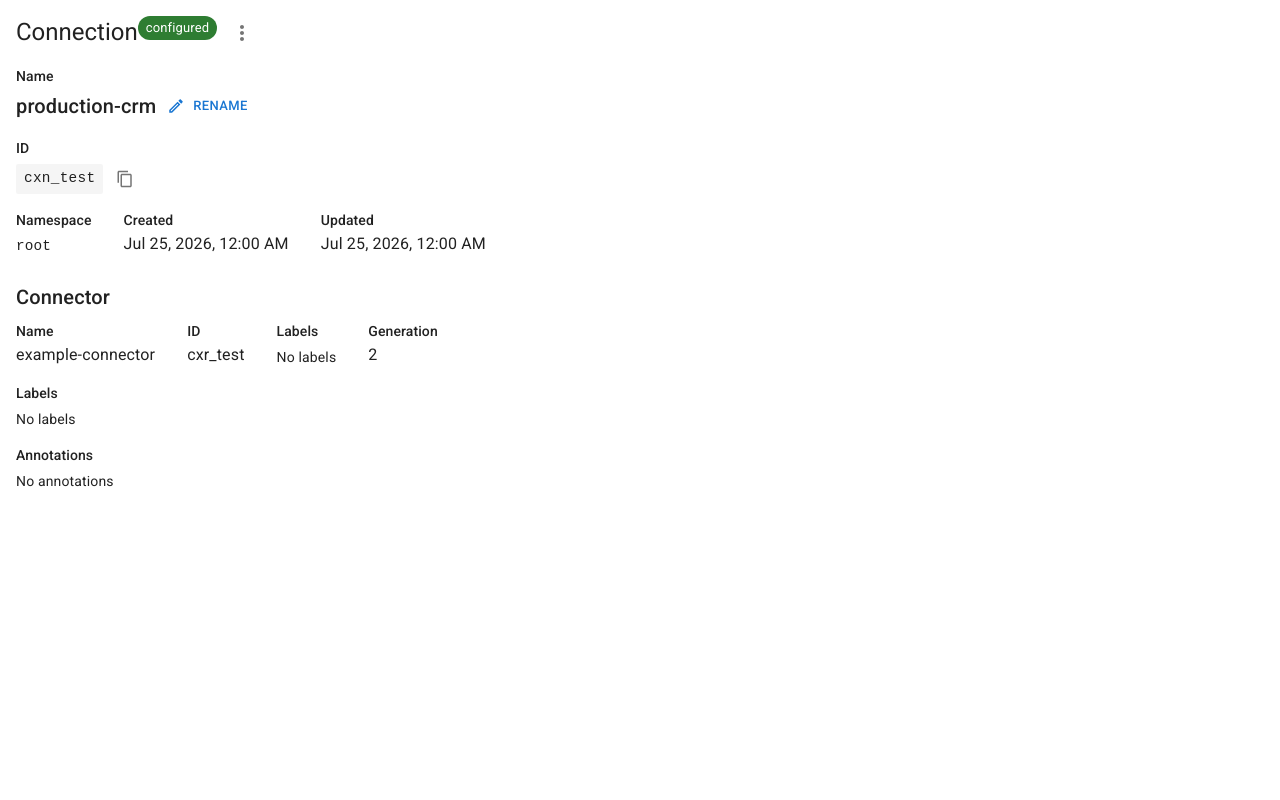
ConnectionDetail › uses the same flow to roll back to an earlier active generation
This screenshot has width=1280, height=800.
Expected: the heading "Connection" is shown, [16,16,138,50]
Click the button named "actions".
click(242, 33)  # box [225,16,259,50]
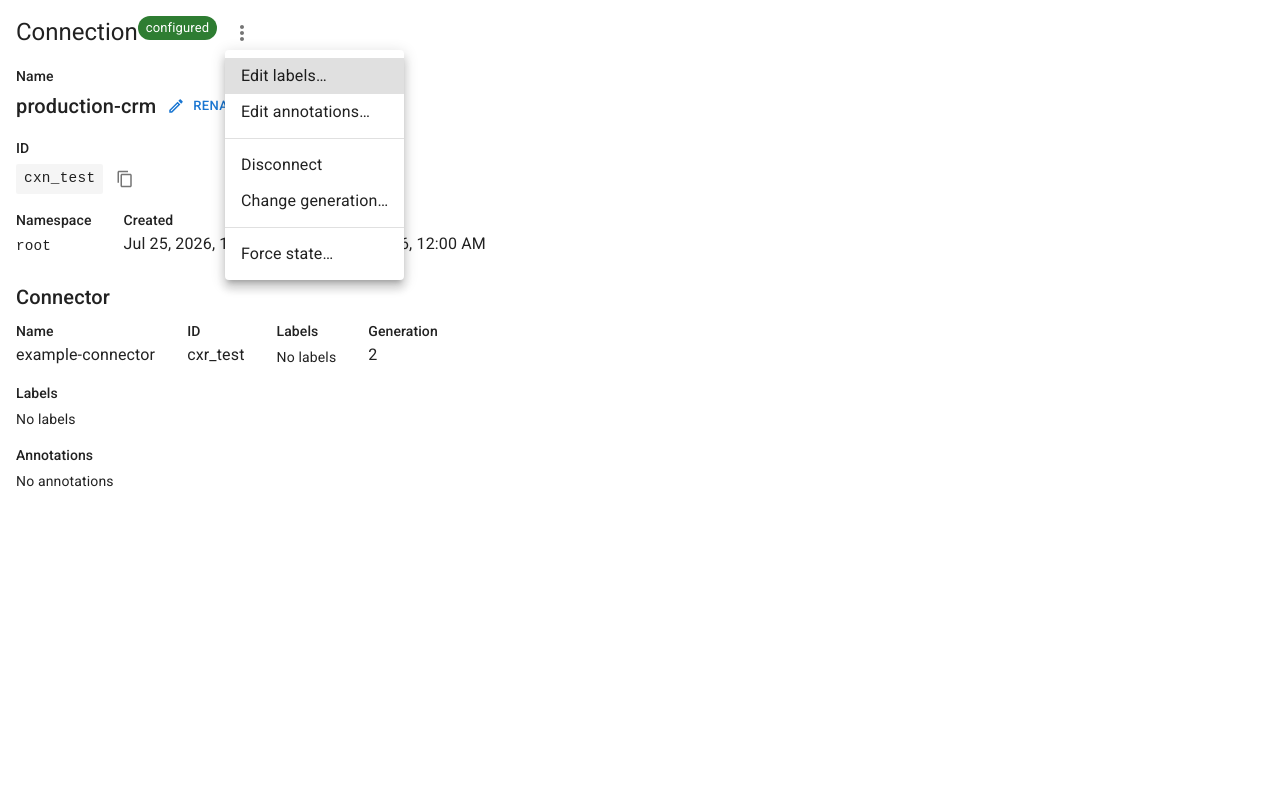
Click the menu item "Change generation…".
click(315, 200)  # box [241,191,388,210]
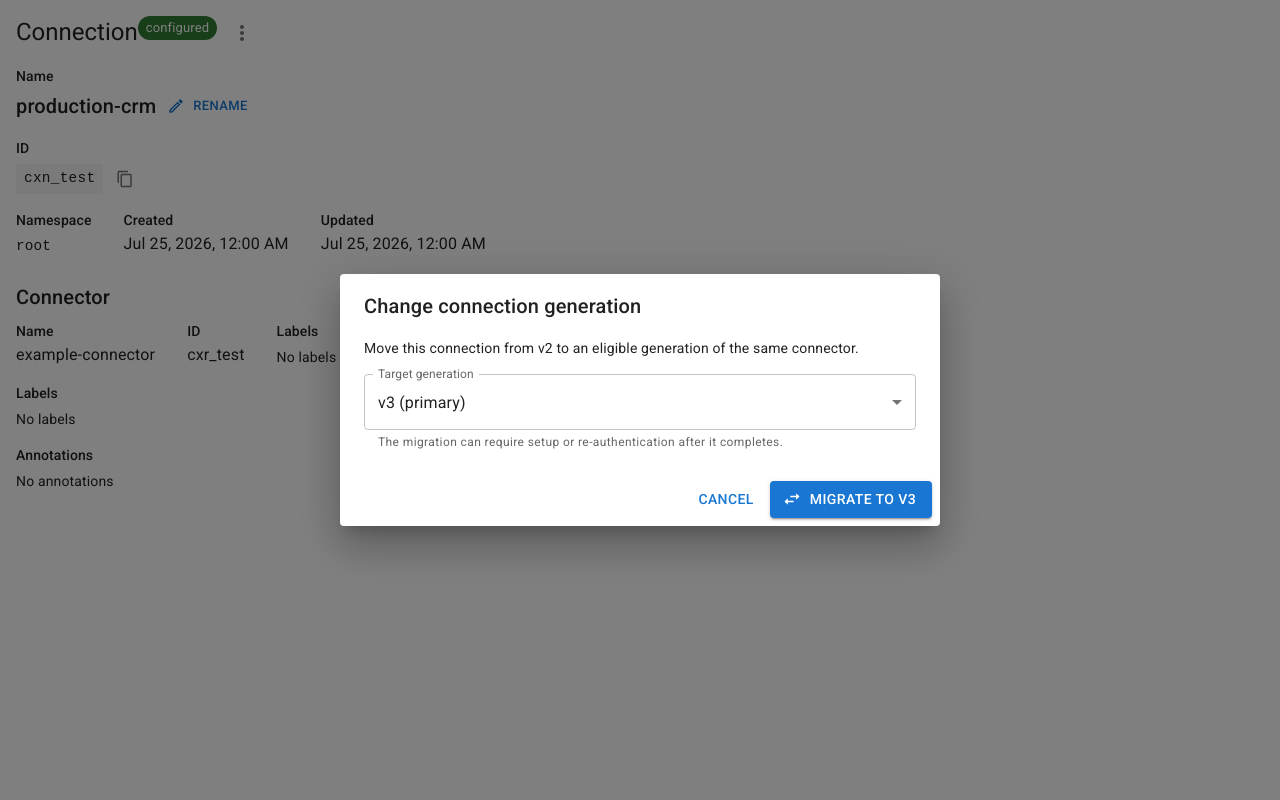
Select "v1 (active)" in the dropdown labelled "Target generation" at [640, 402], box [364,374,916,430]
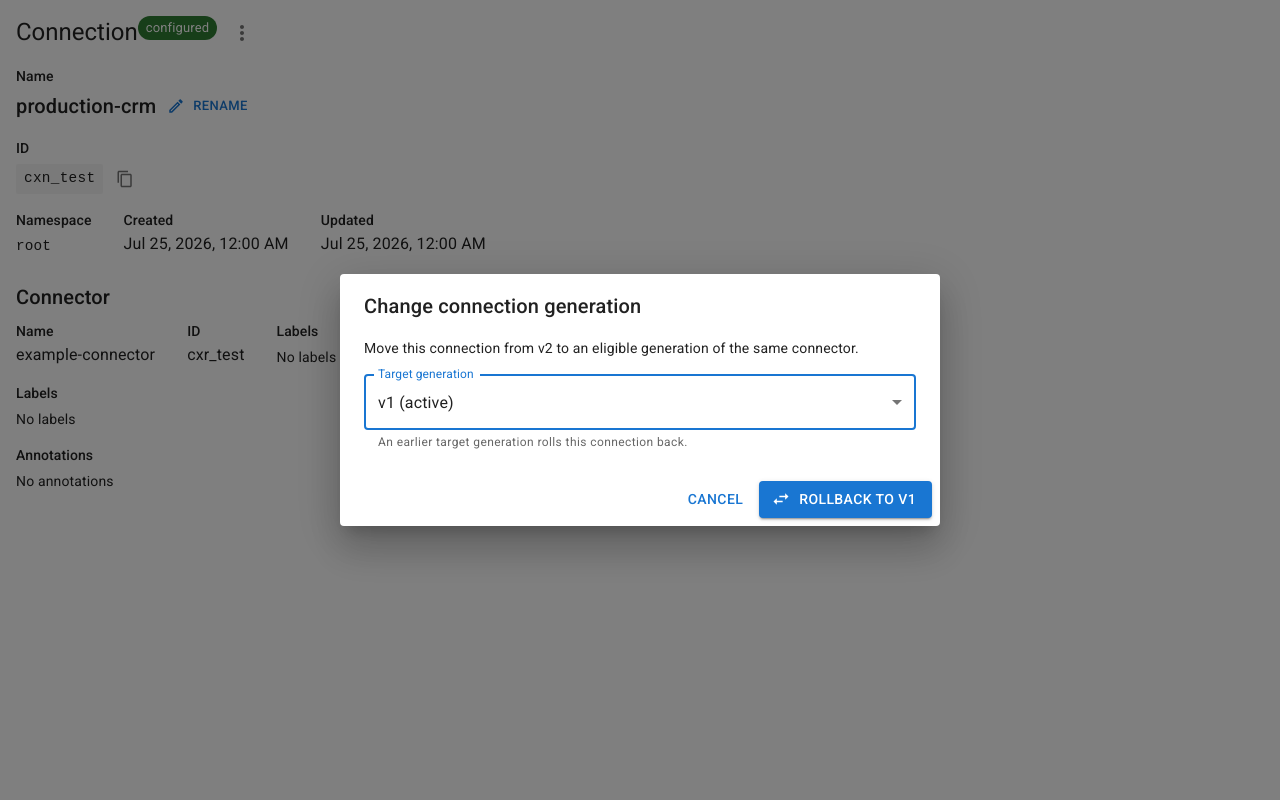
Click the button "Rollback to v1".
click(846, 499)  # box [759,481,932,518]
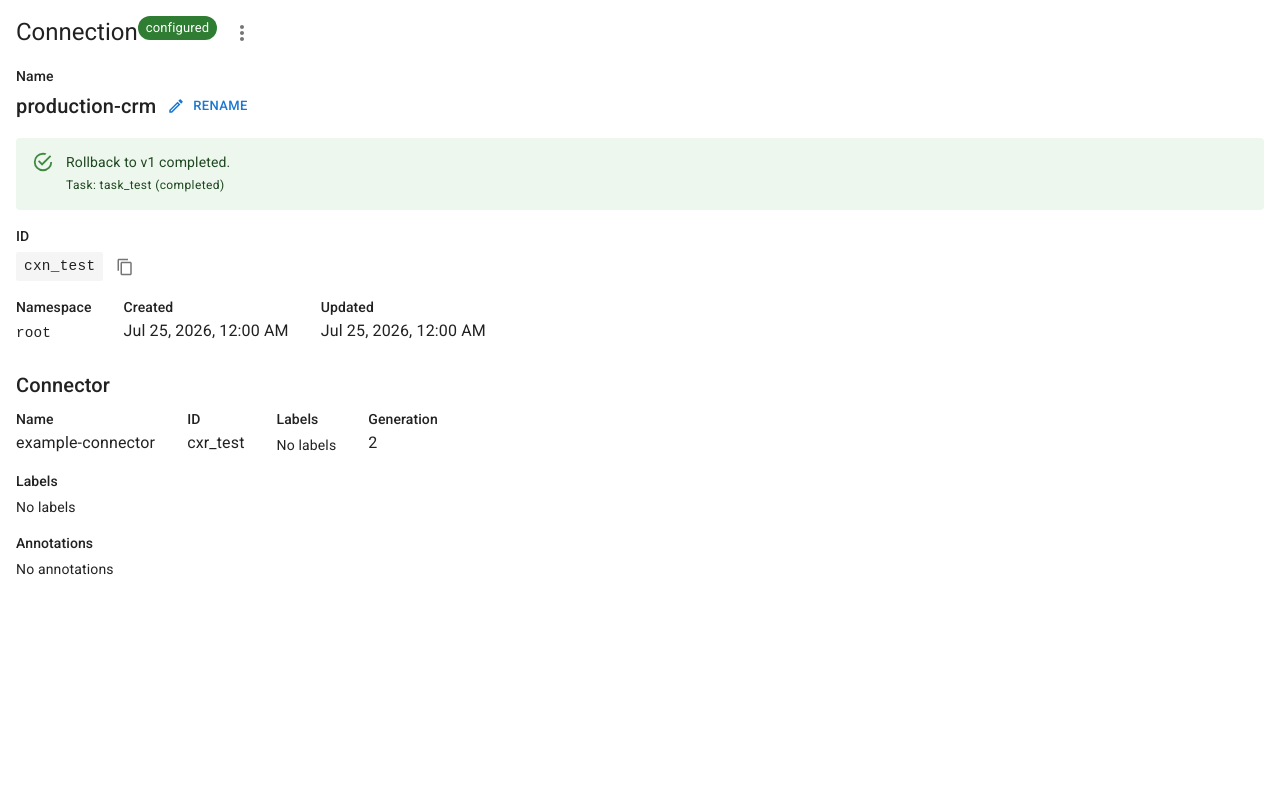
Result: the text "Rollback to v1 completed." is shown at [66,154,230,170]
